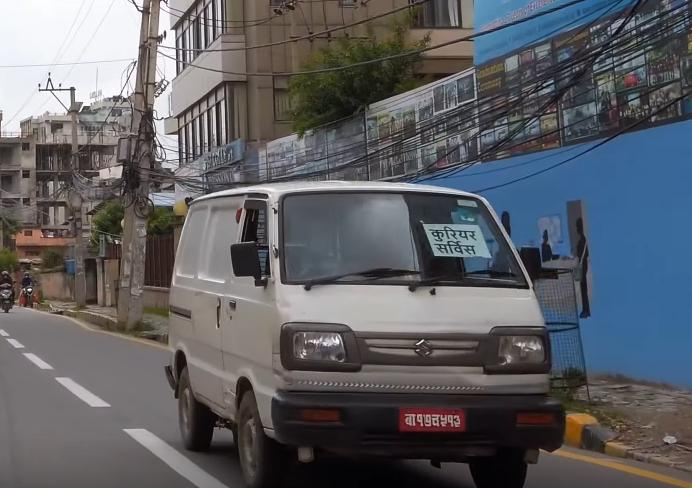van: (160, 172, 581, 488)
